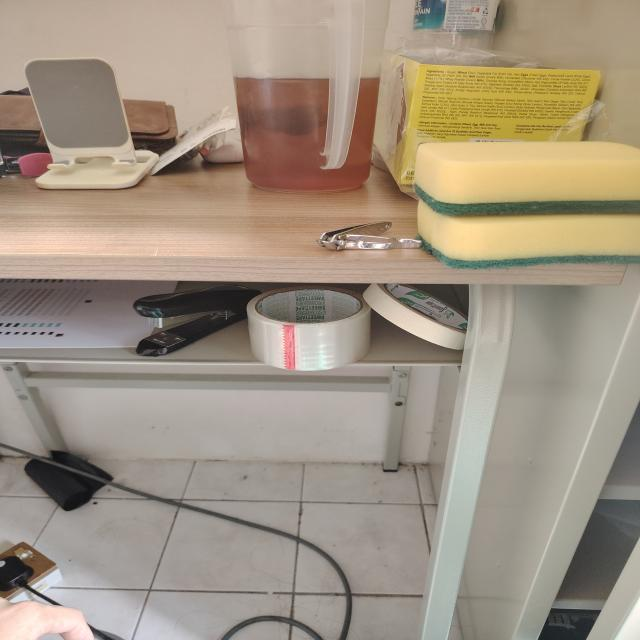stapler: (133, 285, 260, 356), (3, 153, 52, 177)
tape: (247, 284, 371, 371), (363, 283, 468, 350)
